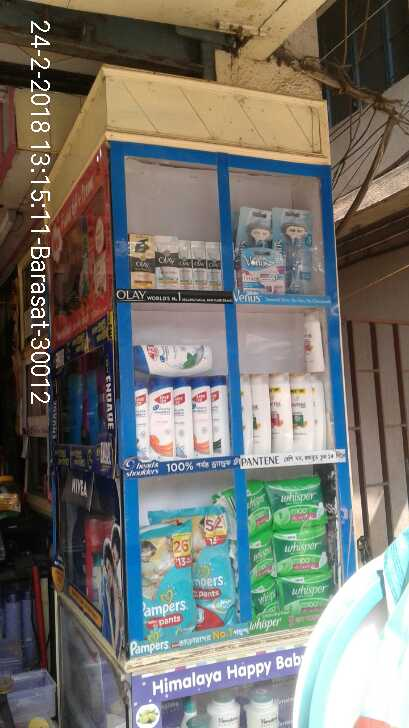venus: (243, 249, 287, 291), (295, 211, 314, 288), (240, 204, 271, 243)
